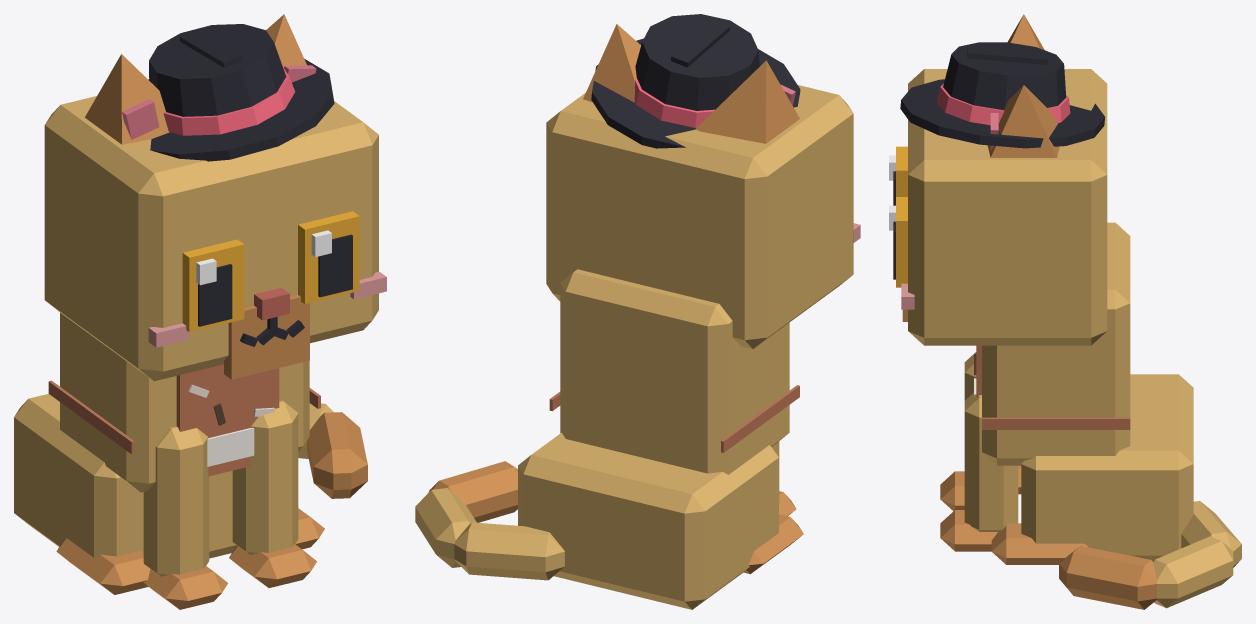
Rendered from CatCafe_NPC_Townsfolk_Trader.glb.
3 renders of one model, left to right at view 1: azimuth 30°, elevation 25°; view 2: azimuth 150°, elevation 25°; view 3: azimuth 270°, elevation 25°, orthographic. The views are drawn at different scales.
Visible parts, largest first — view 1: CatCafe_NPC_Townsfolk_Trader_Head, CatCafe_NPC_Townsfolk_Trader_Body, CatCafe_NPC_Townsfolk_Trader_Prop, CatCafe_NPC_Townsfolk_Trader_LegF2, CatCafe_NPC_Townsfolk_Trader_LegF1, CatCafe_NPC_Townsfolk_Trader_Eye2, CatCafe_NPC_Townsfolk_Trader_Eye1, CatCafe_NPC_Townsfolk_Trader_Tail, CatCafe_NPC_Townsfolk_Trader_EarR, CatCafe_NPC_Townsfolk_Trader_Glow, CatCafe_NPC_Townsfolk_Trader_EarL; view 2: CatCafe_NPC_Townsfolk_Trader_Body, CatCafe_NPC_Townsfolk_Trader_Head, CatCafe_NPC_Townsfolk_Trader_Prop, CatCafe_NPC_Townsfolk_Trader_Tail, CatCafe_NPC_Townsfolk_Trader_EarR, CatCafe_NPC_Townsfolk_Trader_EarL, CatCafe_NPC_Townsfolk_Trader_Glow; view 3: CatCafe_NPC_Townsfolk_Trader_Body, CatCafe_NPC_Townsfolk_Trader_Head, CatCafe_NPC_Townsfolk_Trader_Prop, CatCafe_NPC_Townsfolk_Trader_Tail, CatCafe_NPC_Townsfolk_Trader_LegF1, CatCafe_NPC_Townsfolk_Trader_EarL, CatCafe_NPC_Townsfolk_Trader_Glow, CatCafe_NPC_Townsfolk_Trader_Eye1, CatCafe_NPC_Townsfolk_Trader_LegF2, CatCafe_NPC_Townsfolk_Trader_Eye2, CatCafe_NPC_Townsfolk_Trader_EarR.
Boxes of the visible parts, x1=… form: CatCafe_NPC_Townsfolk_Trader_Head: x1=44, y1=96, x2=386, y2=381; CatCafe_NPC_Townsfolk_Trader_Body: x1=14, y1=313, x2=324, y2=594; CatCafe_NPC_Townsfolk_Trader_Prop: x1=148, y1=24, x2=334, y2=161; CatCafe_NPC_Townsfolk_Trader_LegF2: x1=143, y1=426, x2=227, y2=609; CatCafe_NPC_Townsfolk_Trader_LegF1: x1=229, y1=400, x2=316, y2=587; CatCafe_NPC_Townsfolk_Trader_Eye2: x1=182, y1=239, x2=244, y2=332; CatCafe_NPC_Townsfolk_Trader_Eye1: x1=298, y1=211, x2=359, y2=304; CatCafe_NPC_Townsfolk_Trader_Tail: x1=298, y1=403, x2=367, y2=498; CatCafe_NPC_Townsfolk_Trader_EarR: x1=85, y1=54, x2=169, y2=144; CatCafe_NPC_Townsfolk_Trader_Glow: x1=163, y1=67, x2=295, y2=135; CatCafe_NPC_Townsfolk_Trader_EarL: x1=266, y1=14, x2=316, y2=82; CatCafe_NPC_Townsfolk_Trader_Body: x1=518, y1=269, x2=803, y2=609; CatCafe_NPC_Townsfolk_Trader_Head: x1=546, y1=85, x2=860, y2=348; CatCafe_NPC_Townsfolk_Trader_Prop: x1=591, y1=14, x2=800, y2=148; CatCafe_NPC_Townsfolk_Trader_Tail: x1=415, y1=461, x2=564, y2=580; CatCafe_NPC_Townsfolk_Trader_EarR: x1=695, y1=60, x2=799, y2=143; CatCafe_NPC_Townsfolk_Trader_EarL: x1=583, y1=24, x2=640, y2=102; CatCafe_NPC_Townsfolk_Trader_Glow: x1=634, y1=78, x2=714, y2=127; CatCafe_NPC_Townsfolk_Trader_Body: x1=974, y1=222, x2=1193, y2=564; CatCafe_NPC_Townsfolk_Trader_Head: x1=901, y1=69, x2=1107, y2=345; CatCafe_NPC_Townsfolk_Trader_Prop: x1=900, y1=42, x2=1104, y2=148; CatCafe_NPC_Townsfolk_Trader_Tail: x1=1059, y1=501, x2=1241, y2=609; CatCafe_NPC_Townsfolk_Trader_LegF1: x1=940, y1=393, x2=1018, y2=551; CatCafe_NPC_Townsfolk_Trader_EarL: x1=987, y1=85, x2=1059, y2=157; CatCafe_NPC_Townsfolk_Trader_Glow: x1=936, y1=83, x2=1070, y2=125; CatCafe_NPC_Townsfolk_Trader_Eye1: x1=889, y1=197, x2=907, y2=287; CatCafe_NPC_Townsfolk_Trader_LegF2: x1=940, y1=352, x2=976, y2=510; CatCafe_NPC_Townsfolk_Trader_Eye2: x1=889, y1=146, x2=907, y2=205; CatCafe_NPC_Townsfolk_Trader_EarR: x1=1008, y1=14, x2=1044, y2=50.
Bounding box in the file's own units: 1.24 × 1.85 × 1.24.
1 material, 1 textured.
